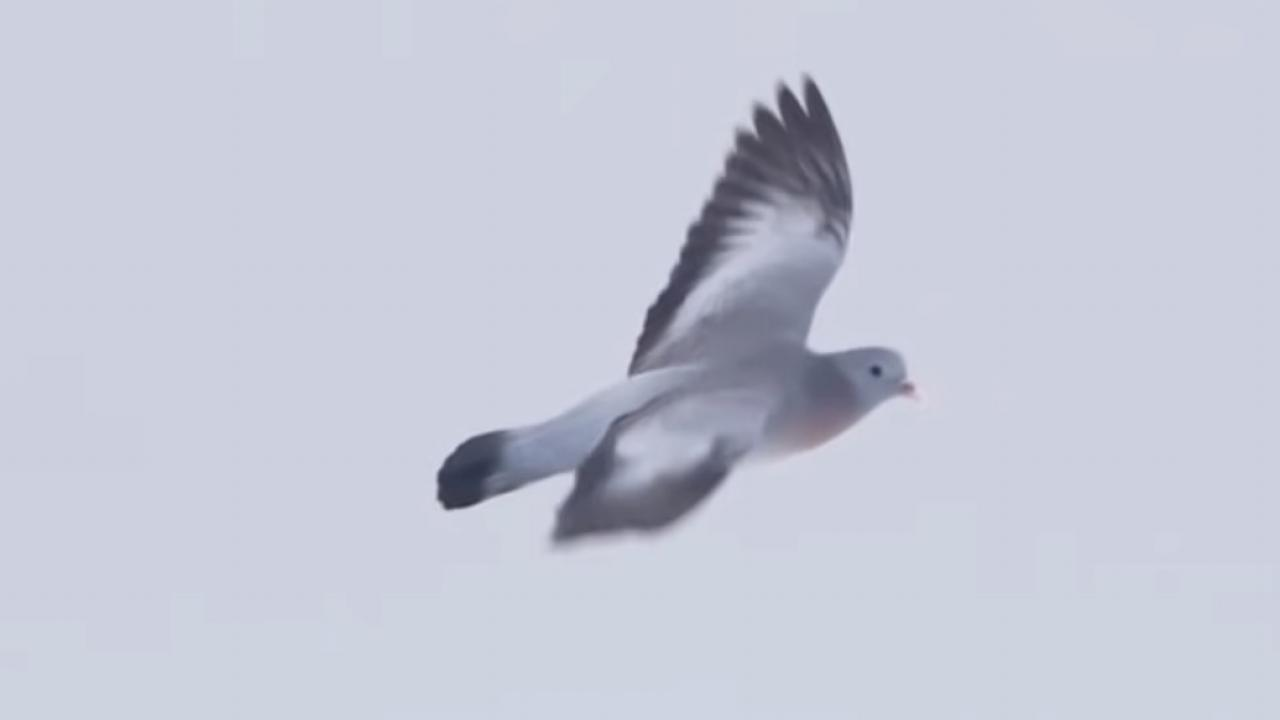Bird: (425, 67, 925, 556)
